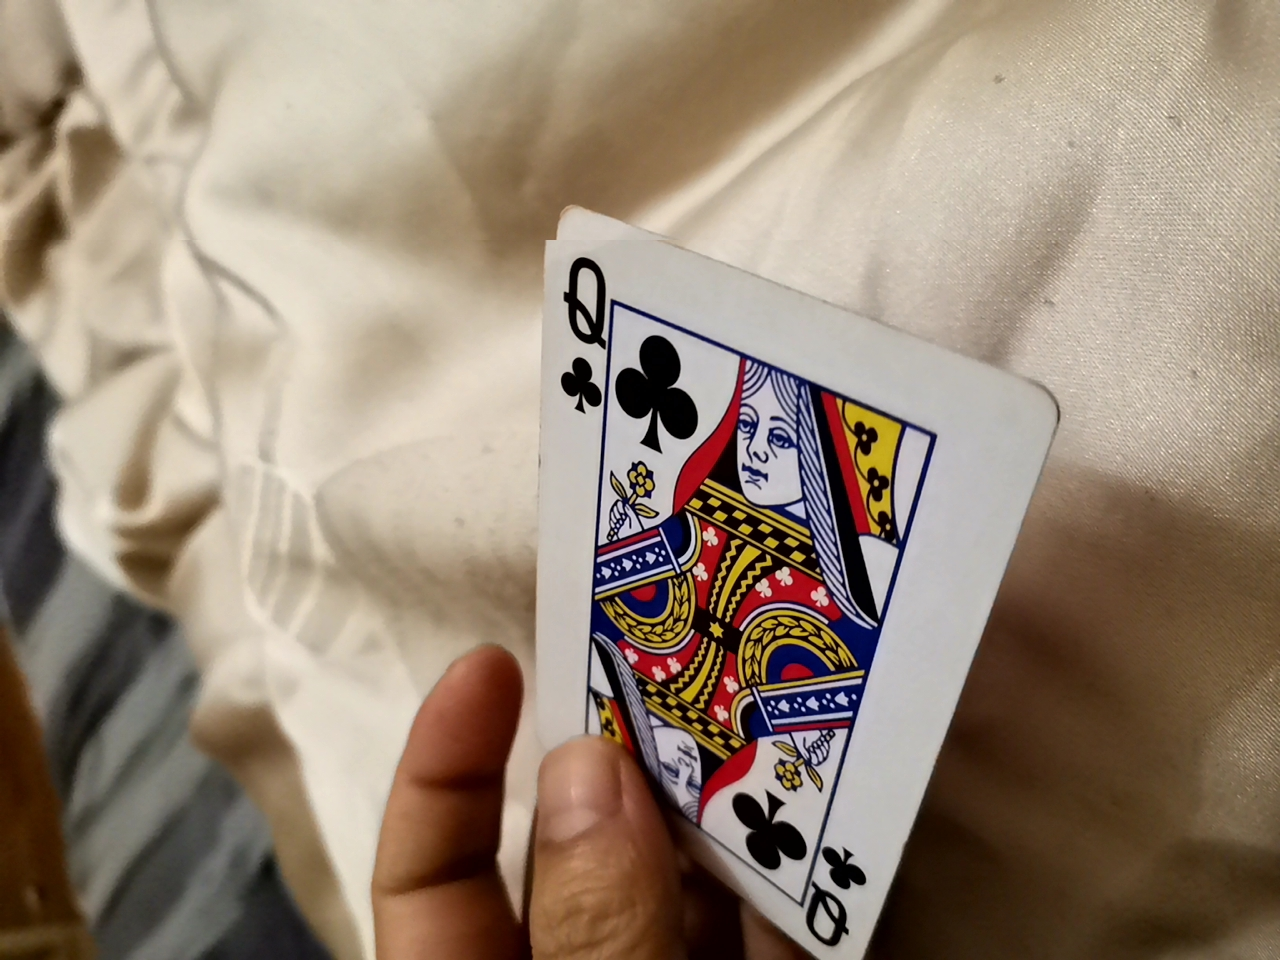mh q: (462, 225, 1064, 938)
